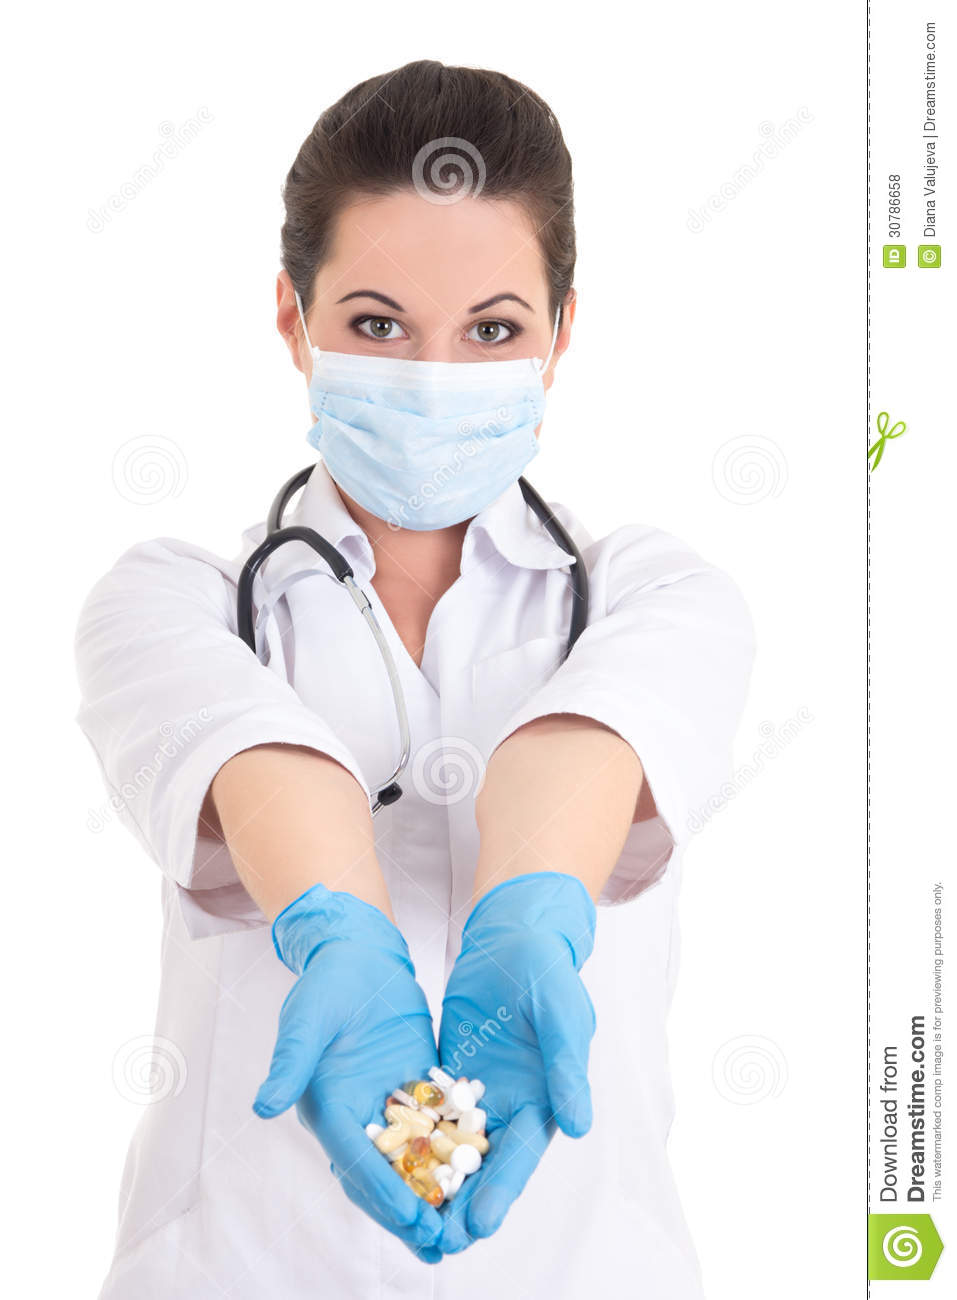mask: (302, 348, 545, 533)
